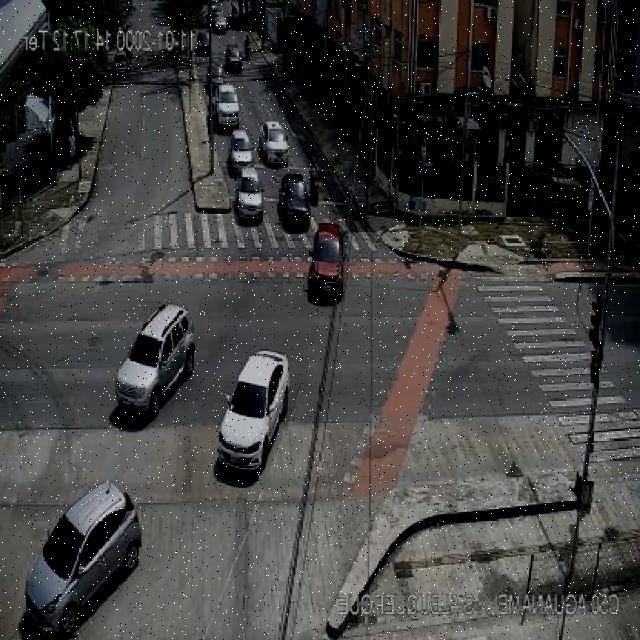Car: (20, 486, 167, 614), (110, 302, 198, 428), (214, 346, 292, 484), (310, 226, 348, 300), (276, 166, 313, 226), (210, 79, 240, 133), (238, 170, 263, 226), (227, 127, 257, 171), (263, 121, 292, 162)
